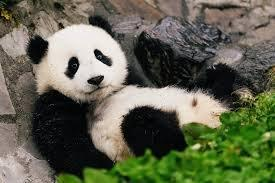bear: (25, 14, 239, 176)
